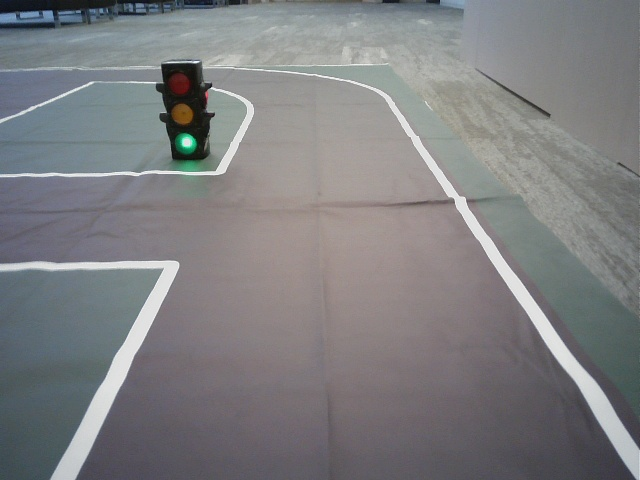green: (162, 67, 202, 159)
